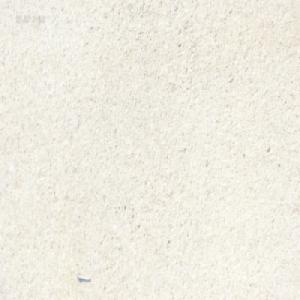Nail: (76, 271, 91, 281)
